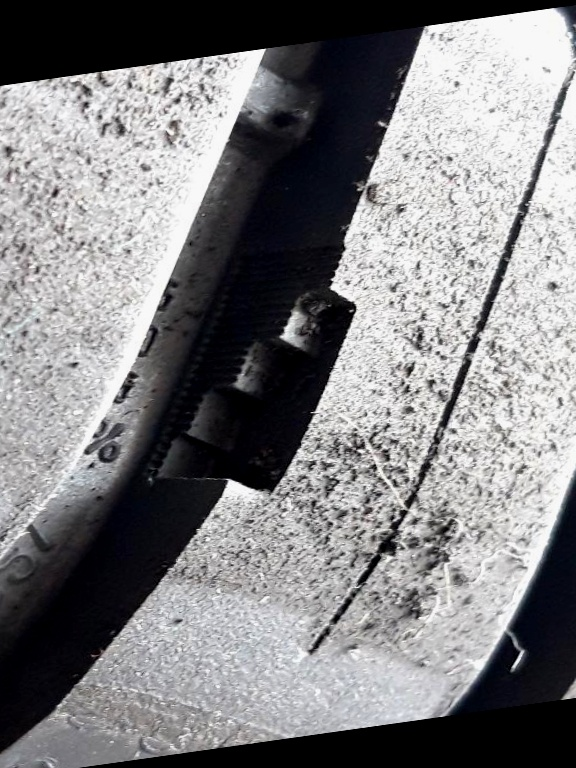temoin:95: (122, 224, 378, 529)
